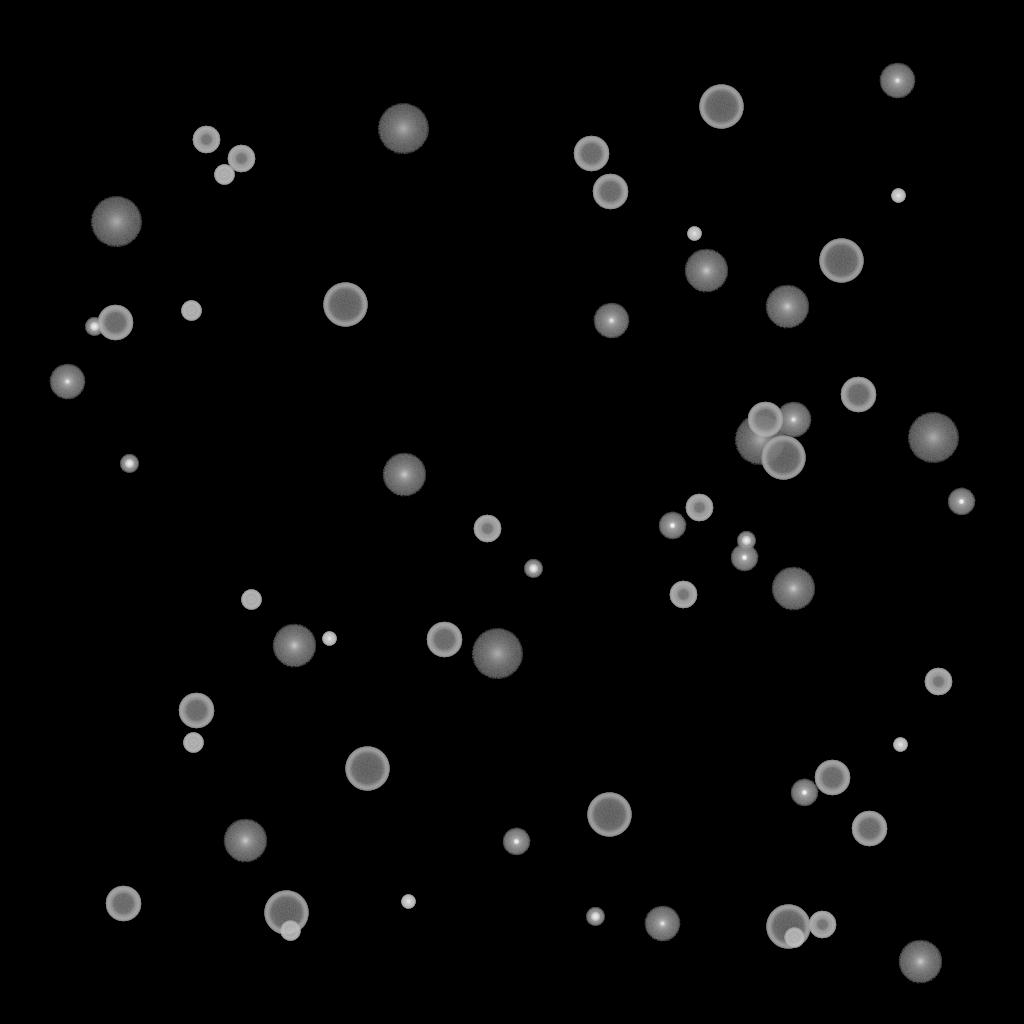depth:-10: (502, 828, 530, 856), (790, 779, 818, 807), (947, 488, 975, 516), (730, 544, 758, 572), (658, 512, 686, 540)
depth:-20: (120, 455, 138, 473), (524, 560, 542, 578), (85, 318, 103, 336), (737, 532, 755, 550), (586, 908, 604, 926)
depth:-30: (401, 895, 415, 909), (322, 632, 336, 646), (893, 738, 907, 752), (891, 189, 905, 203), (687, 227, 701, 241)
depth:-40: (241, 590, 261, 610), (214, 165, 234, 185), (183, 733, 203, 753), (280, 921, 300, 941), (784, 928, 804, 948), (181, 301, 201, 321)
depth:-50: (685, 494, 713, 522), (808, 911, 836, 939), (192, 126, 220, 154), (669, 581, 697, 609), (924, 668, 952, 696), (473, 515, 501, 543), (227, 145, 255, 173)
depth:-60: (747, 402, 783, 438), (178, 693, 214, 729), (851, 811, 887, 847), (426, 622, 462, 658), (105, 886, 141, 922), (97, 305, 133, 341), (840, 377, 876, 413), (592, 174, 628, 210), (814, 760, 850, 796), (573, 136, 609, 172)
depth:-70: (264, 891, 308, 935), (699, 85, 743, 129), (323, 283, 367, 327), (761, 436, 805, 480), (345, 747, 389, 791), (766, 905, 810, 949), (819, 239, 863, 283), (587, 793, 631, 837)
depth:0: (644, 906, 680, 942), (879, 63, 915, 99), (49, 364, 85, 400), (775, 402, 811, 438), (593, 303, 629, 339)
depth:10: (223, 819, 267, 863), (684, 249, 728, 293), (272, 624, 316, 668), (898, 940, 942, 984), (382, 453, 426, 497), (771, 567, 815, 611), (765, 285, 809, 329)
depth:20: (471, 629, 523, 679), (907, 413, 959, 463), (90, 197, 142, 247), (734, 415, 786, 465), (377, 104, 429, 154)
